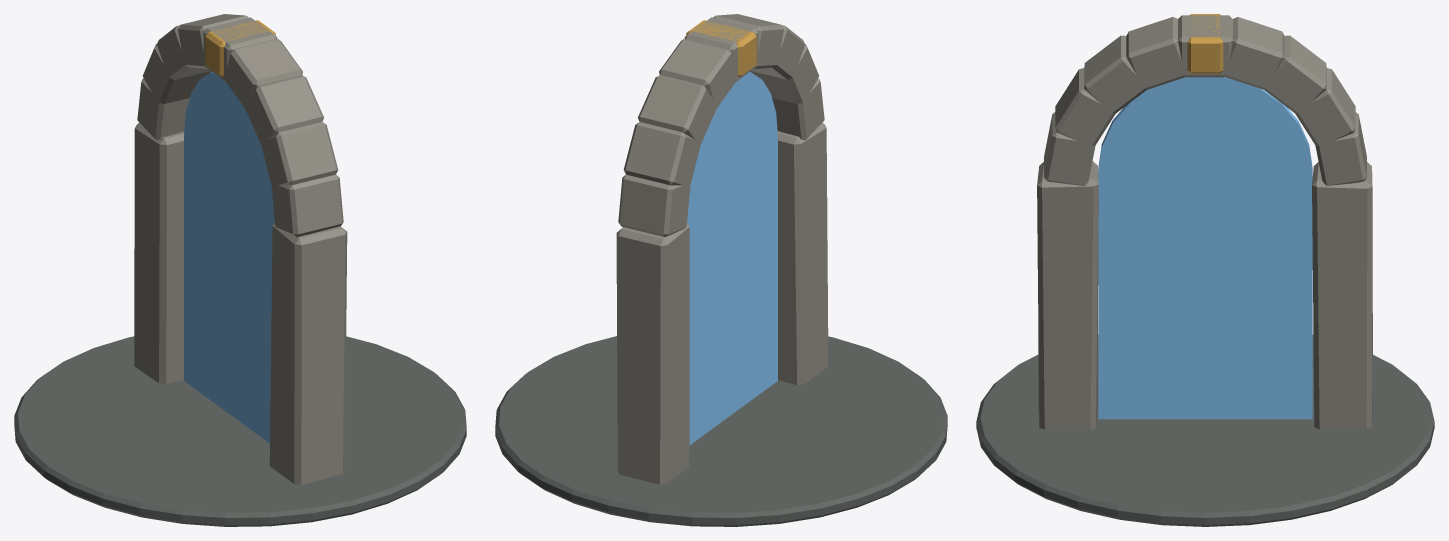
File: SM_ExitPortal.fbx
3 renders of one model, left to right at view 1: azimuth 30°, elevation 25°; view 2: azimuth 150°, elevation 25°; view 3: azimuth 270°, elevation 25°, orthographic.
Parts seen in each view (by area): view 1: SM_ExitPortal; view 2: SM_ExitPortal; view 3: SM_ExitPortal.
Part boxes in pixels (left/top/right/bottom): SM_ExitPortal: left=14, top=14, right=466, bottom=526; SM_ExitPortal: left=495, top=14, right=947, bottom=526; SM_ExitPortal: left=976, top=14, right=1434, bottom=526.
Bounding box in the file's own units: 350 × 343 × 350.
